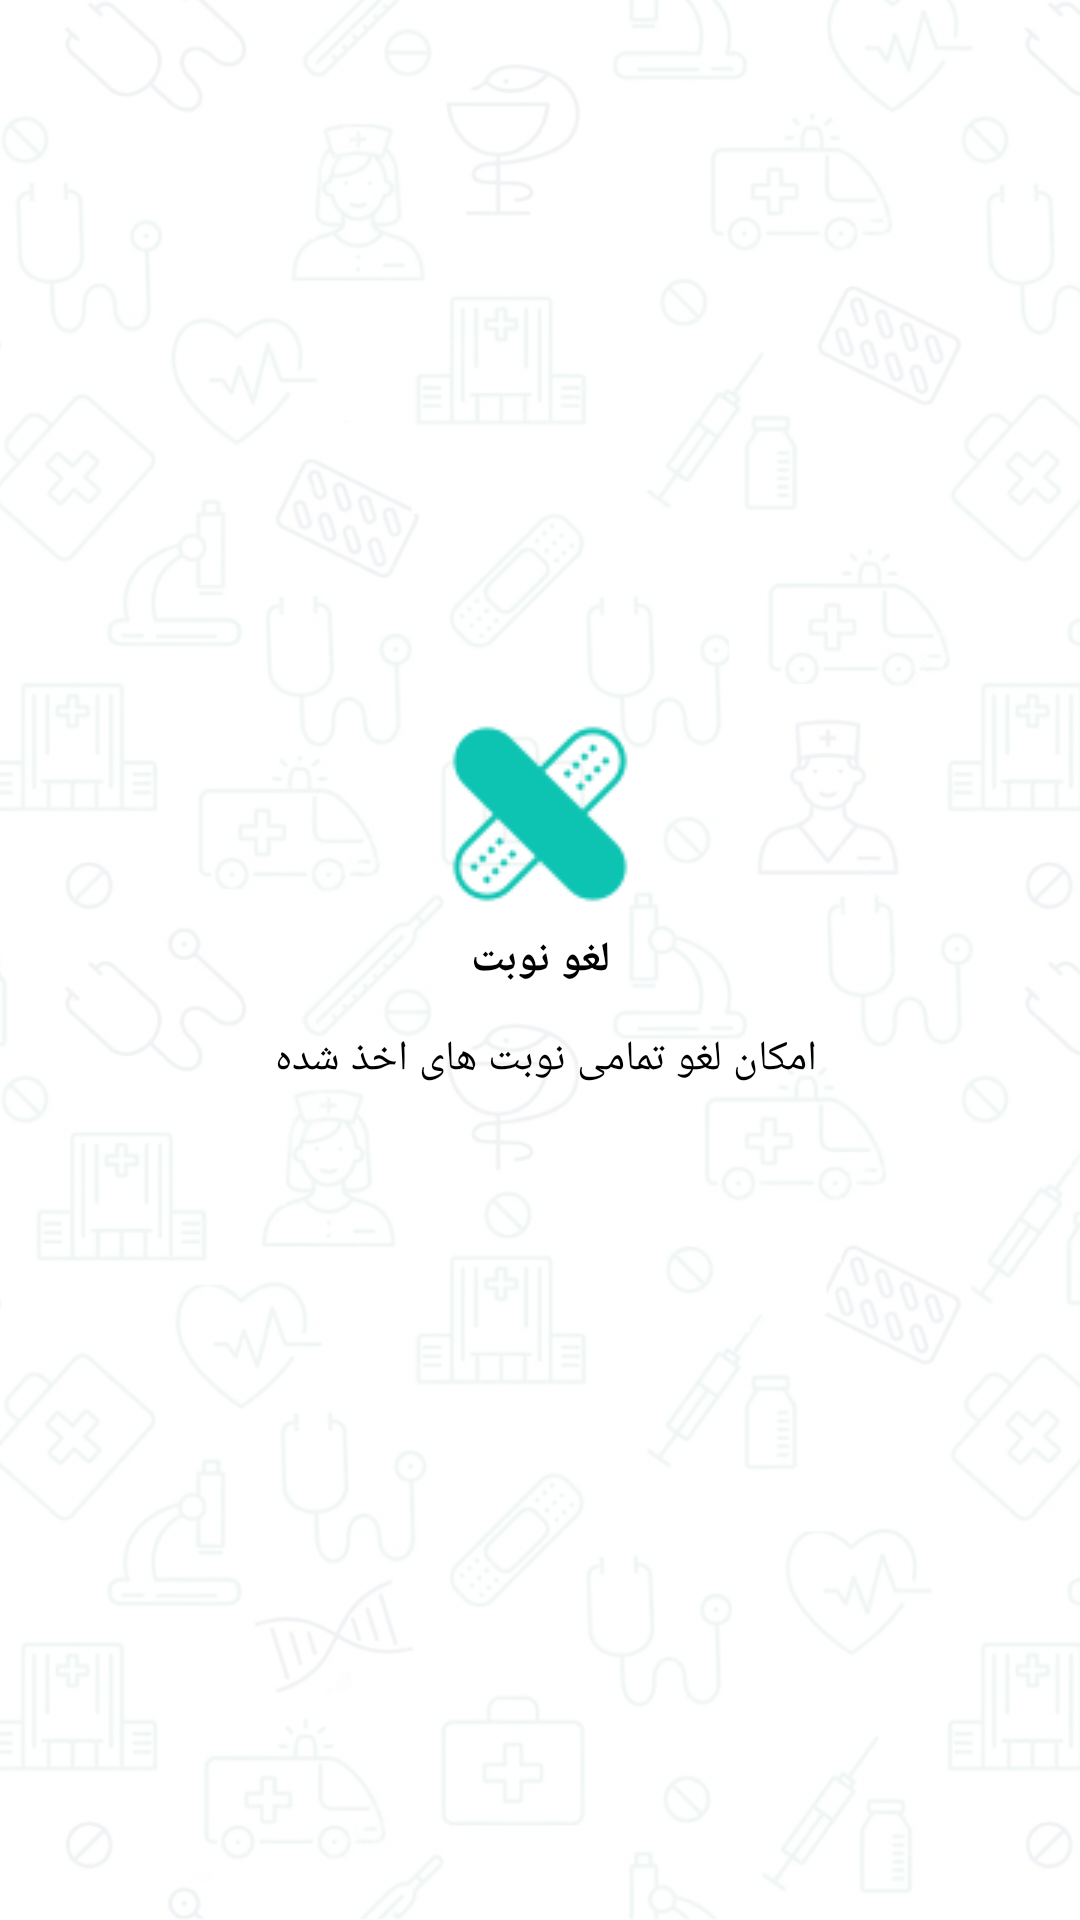

Point at icon controls on the screen. Image size 1080 × 1920, points as (x,y).
bandage: (540,814)
